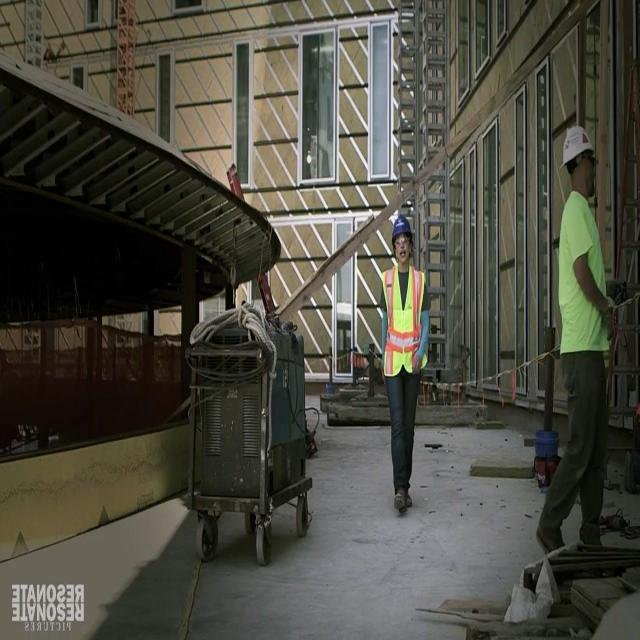Reflective-Jacket: (373, 258, 435, 389)
Safety-Helmet: (558, 121, 597, 171), (386, 209, 420, 245)
